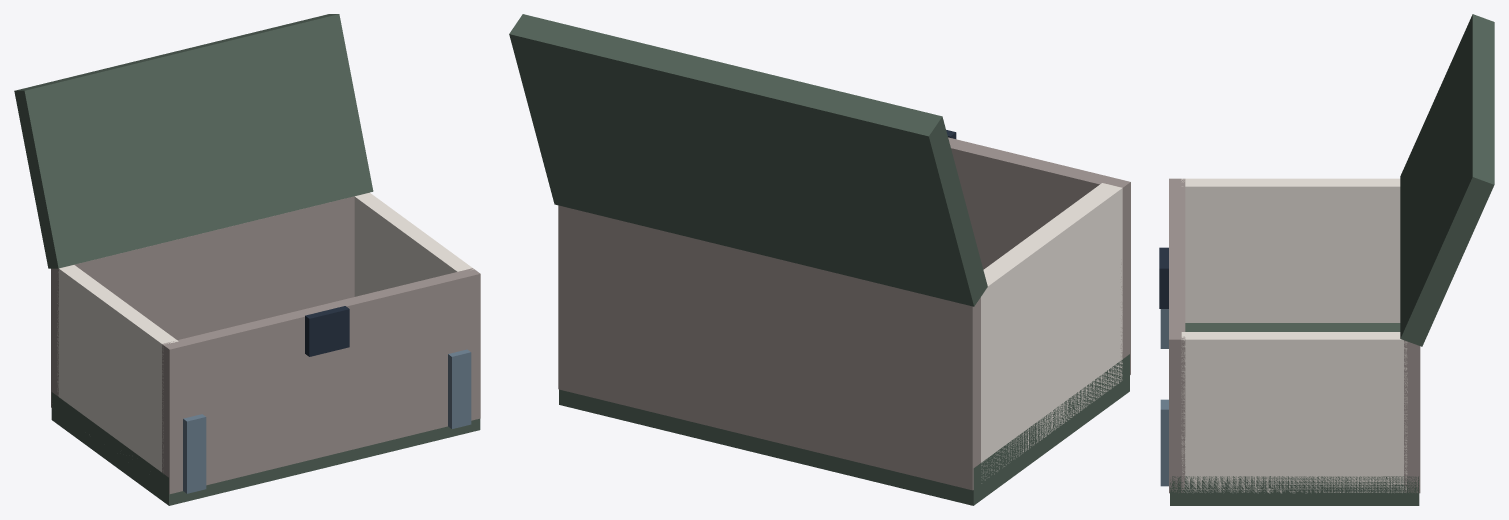
3 renders of one model, left to right at view 1: azimuth 30°, elevation 25°; view 2: azimuth 150°, elevation 25°; view 3: azimuth 270°, elevation 25°, orthographic. The views are drawn at different scales.
Visible parts, largest first — view 1: raised lid, panel 0.5, panel -0.5, end panel -0.77, floor, end panel 0.77, clasp, corner 0.69, corner -0.69; view 2: raised lid, panel -0.5, end panel -0.77, floor, panel 0.5; view 3: end panel 0.77, end panel -0.77, raised lid, floor, panel 0.5, panel -0.5, corner 0.69, clasp.
Boxes of the visible parts, x1,y1,x2,y2 form: raised lid: [14, 14, 373, 268]; panel 0.5: [162, 268, 480, 494]; panel -0.5: [51, 195, 356, 407]; end panel -0.77: [57, 265, 178, 472]; floor: [51, 392, 480, 505]; end panel 0.77: [354, 192, 473, 296]; clasp: [305, 306, 349, 356]; corner 0.69: [448, 349, 471, 428]; corner -0.69: [183, 414, 206, 493]; raised lid: [509, 14, 987, 306]; panel -0.5: [558, 205, 980, 490]; end panel -0.77: [981, 183, 1122, 483]; floor: [559, 354, 1129, 505]; panel 0.5: [948, 137, 1130, 377]; end panel 0.77: [1181, 332, 1407, 493]; end panel -0.77: [1181, 178, 1400, 322]; raised lid: [1400, 14, 1494, 346]; floor: [1170, 323, 1419, 505]; panel 0.5: [1169, 178, 1185, 493]; panel -0.5: [1404, 340, 1420, 493]; corner 0.69: [1160, 399, 1168, 486]; clasp: [1159, 247, 1168, 308].
Bounding box in the file's own units: 1.64 × 1.55 × 1.42.
